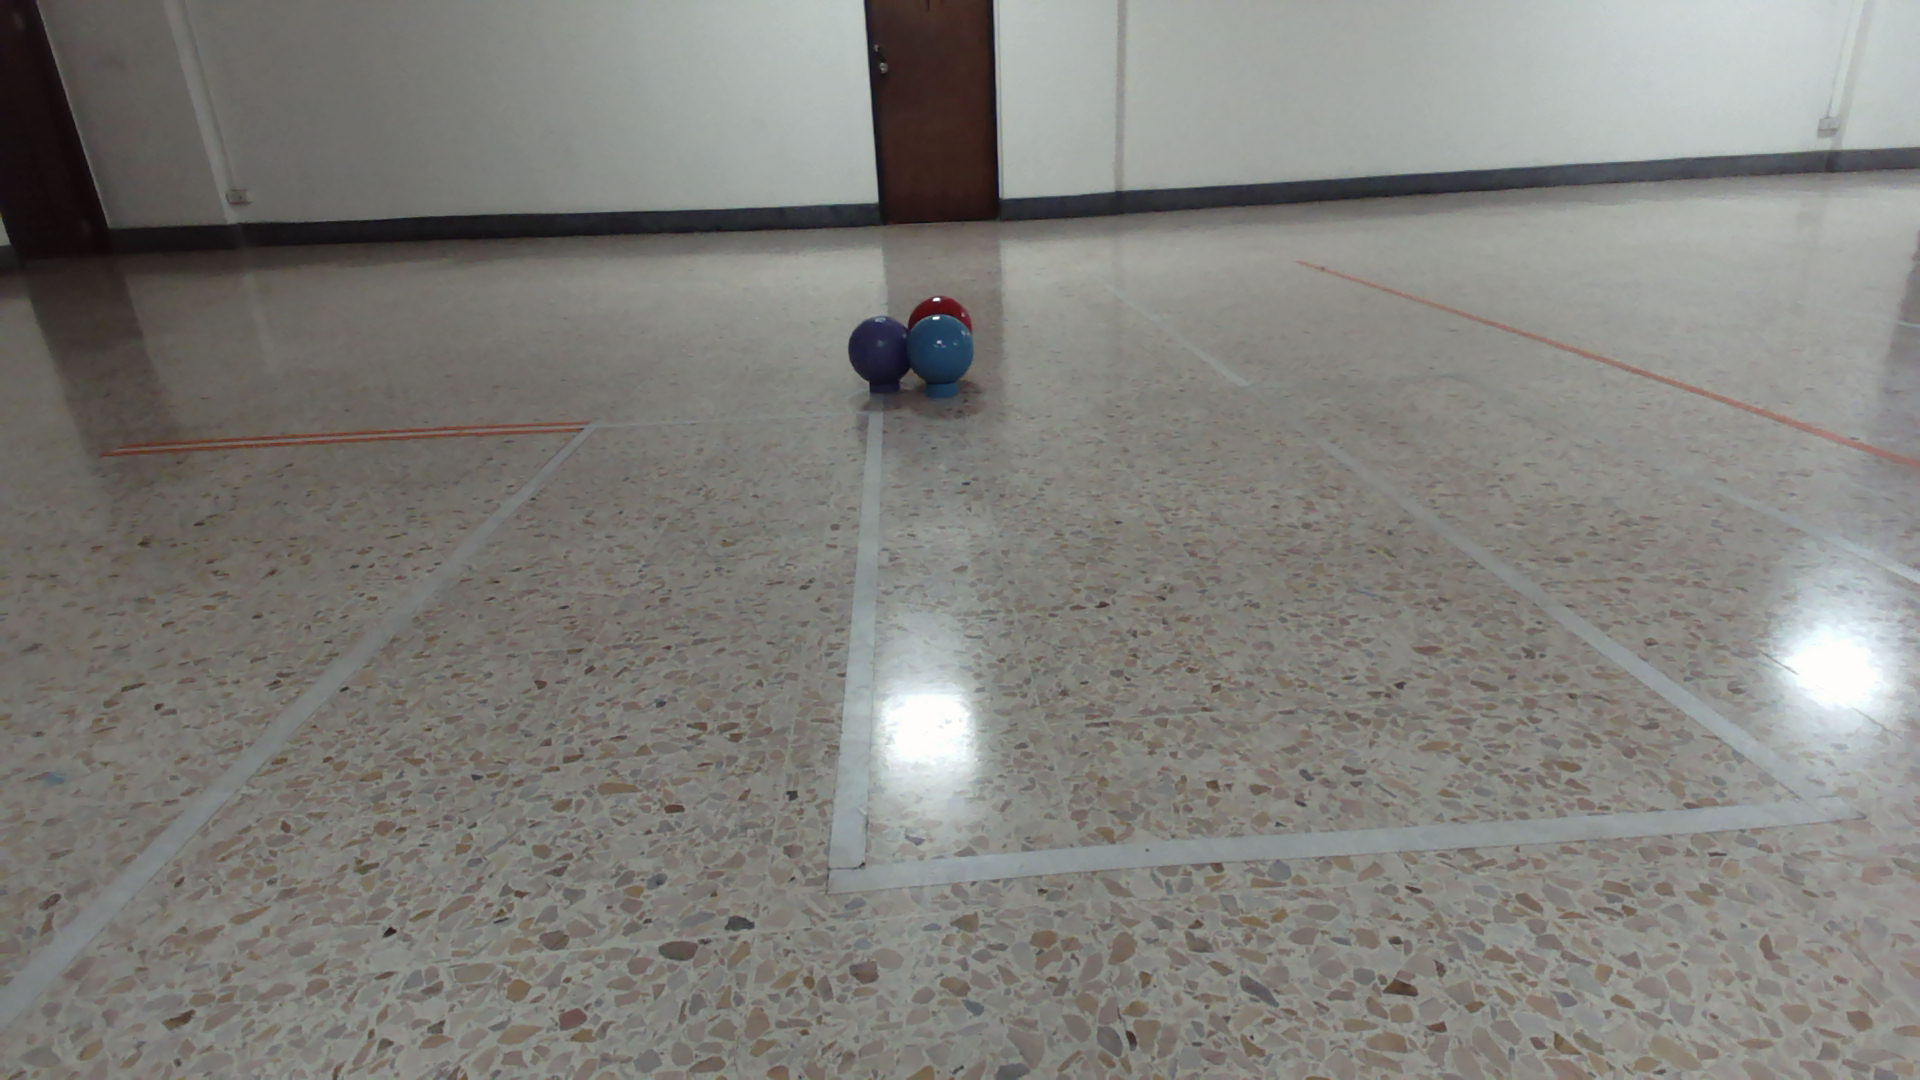Blue ball: (909, 313, 975, 385)
Purple ball: (847, 313, 913, 384)
Red ball: (906, 294, 973, 324)
